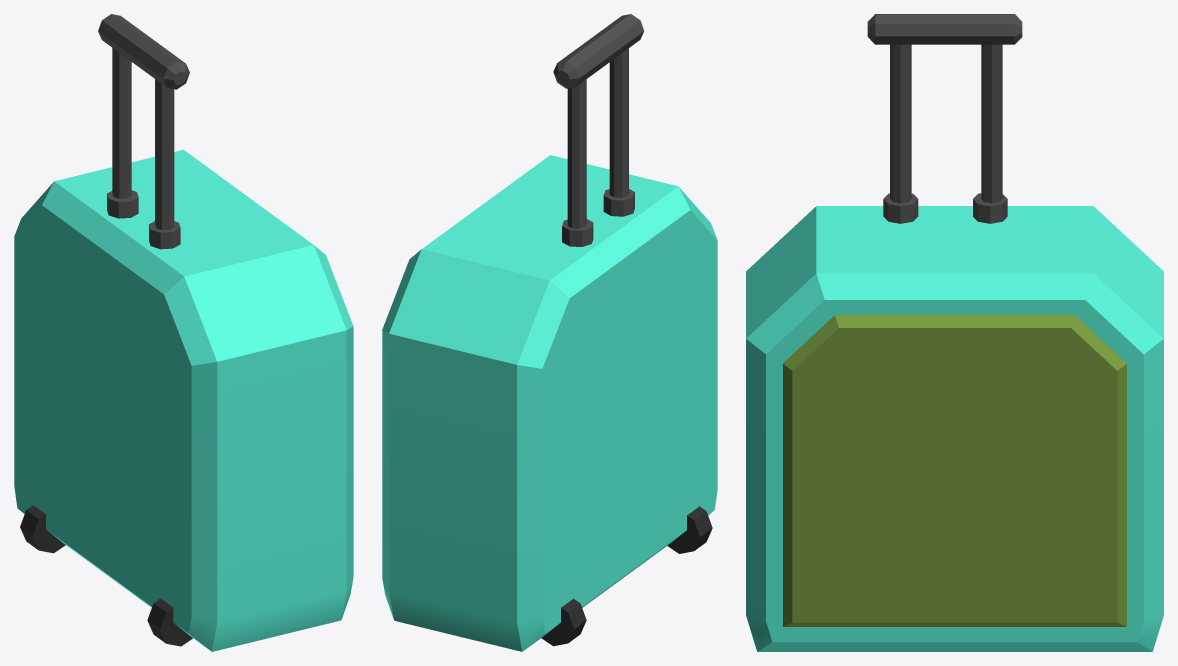
Rendered from Luggage_4.fbx.
3 views of the same model, side by side, from view 1: azimuth 30°, elevation 25°; view 2: azimuth 150°, elevation 25°; view 3: azimuth 270°, elevation 25° (orthographic). The views are drawn at different scales.
Parts seen in each view (by area): view 1: pCylinder12; view 2: pCylinder12; view 3: pCylinder12.
Part boxes in pixels (box(x1,y1,x2,y2)): pCylinder12: box(14, 14, 353, 651); pCylinder12: box(382, 14, 717, 651); pCylinder12: box(746, 14, 1163, 651).
Size of the model in its own units: 2.93 by 8.48 by 5.44.
